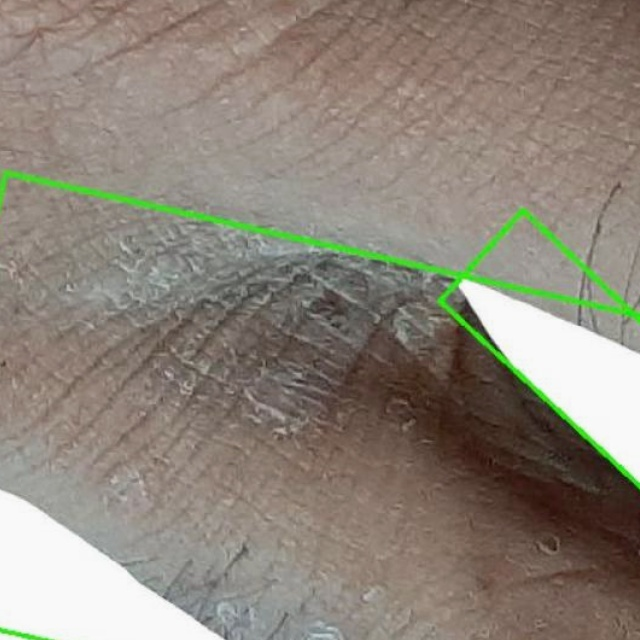Scabies: (0, 174, 639, 639), (433, 211, 639, 517)
